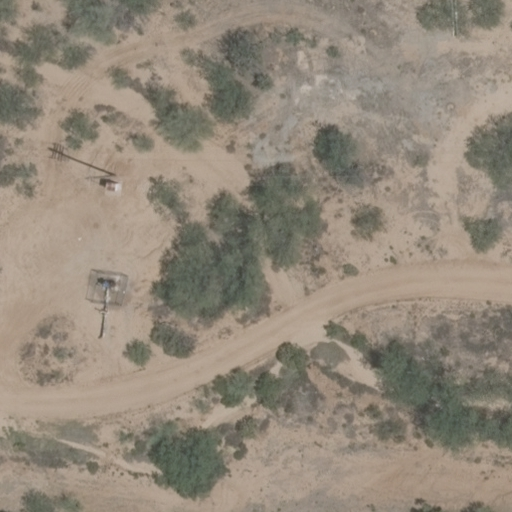DT: (94, 285, 117, 338), (103, 178, 126, 200)
